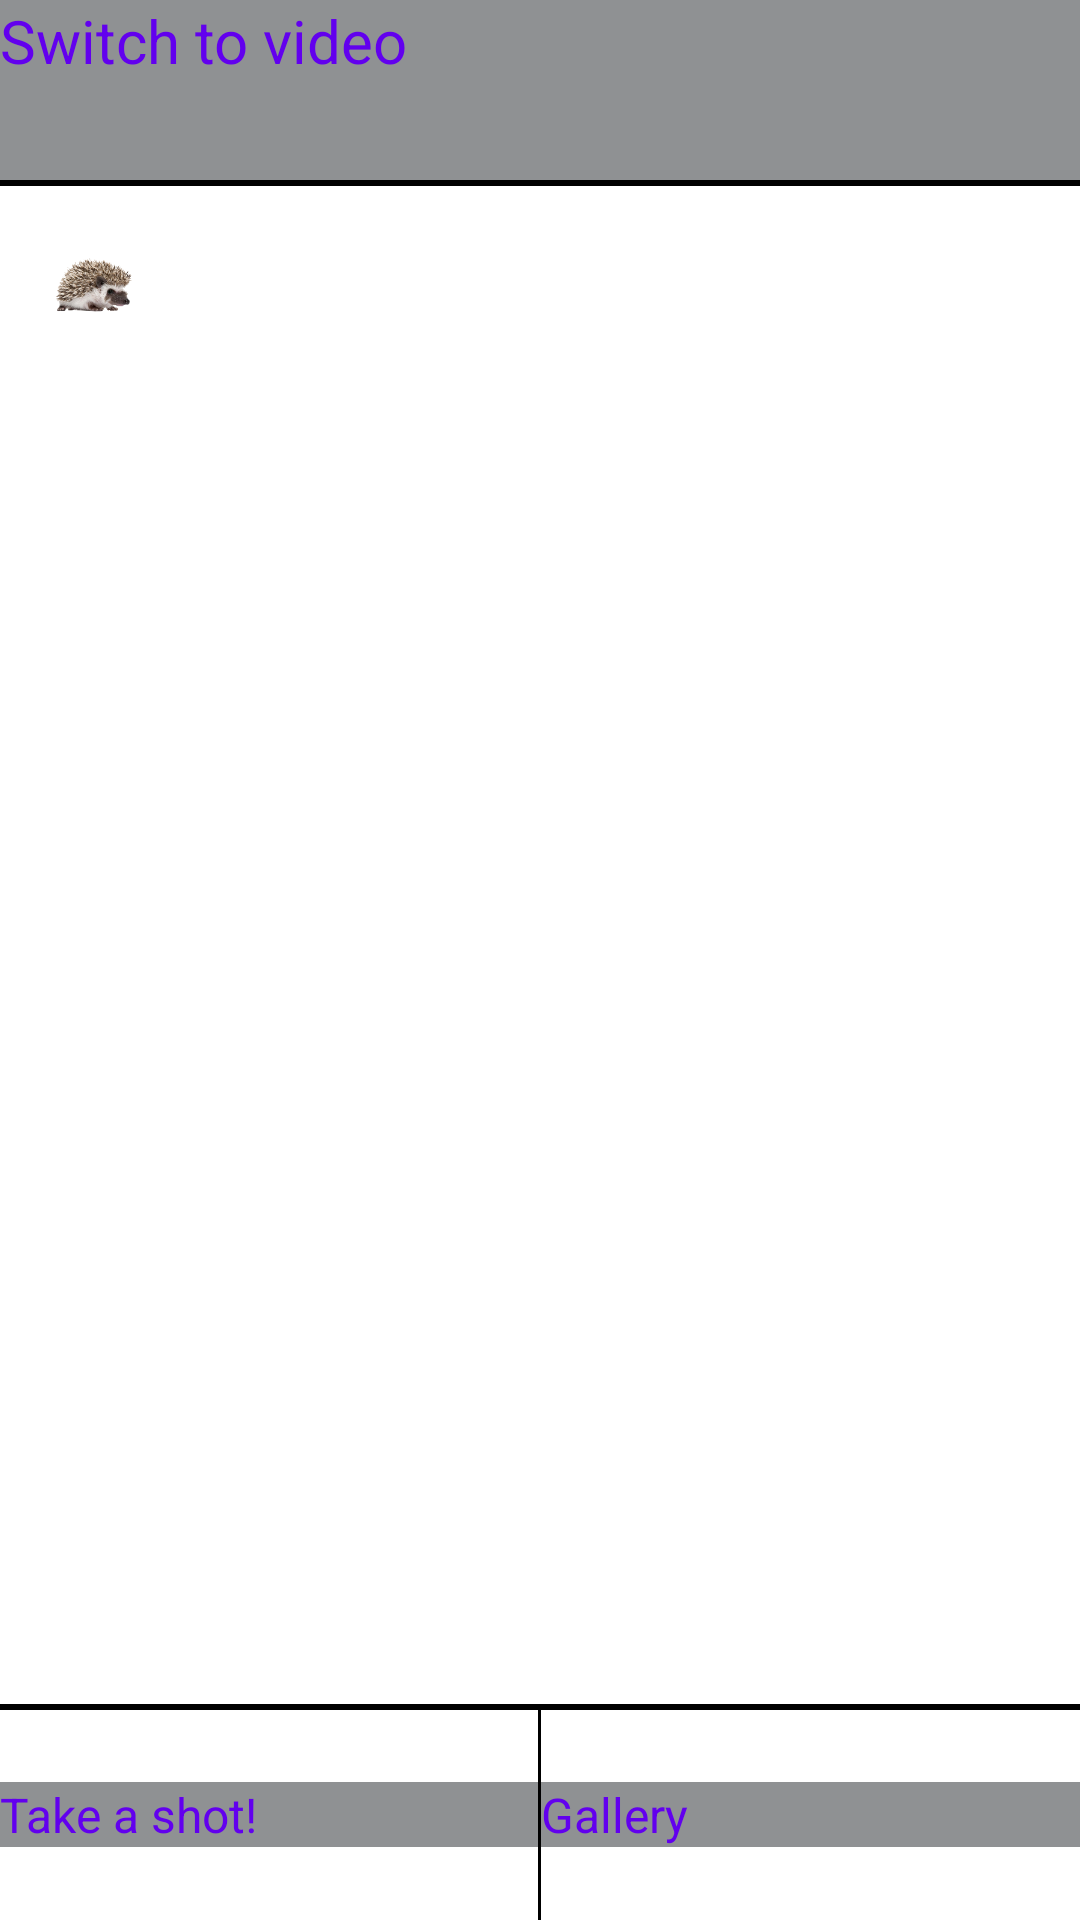

Icons on this 1080w x 1920h Android screen, each with the point to tap as point (x, y):
Just an animal: point (93, 285)
